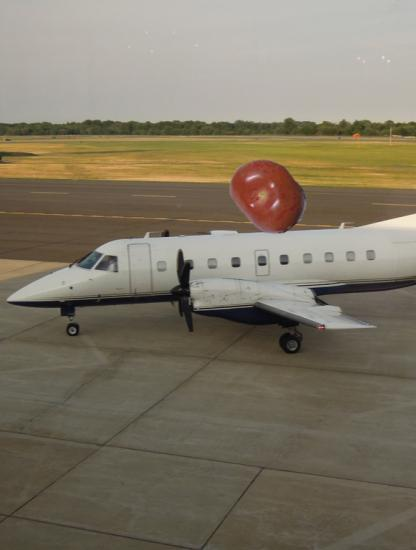Cherry: (228, 155, 309, 236)
